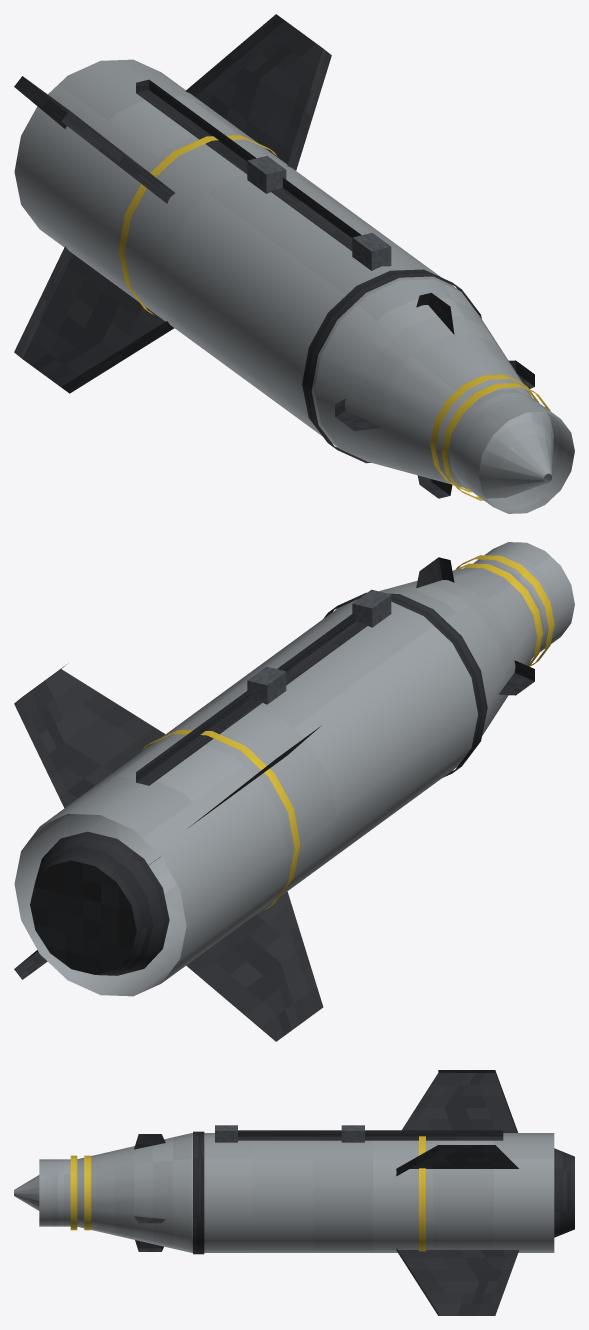
File: missile_tactical_mirv.glb
3 views of the same model, one above another, from view 1: azimuth 30°, elevation 25°; view 2: azimuth 150°, elevation 25°; view 3: azimuth 270°, elevation 25° (orthographic). The views are drawn at different scales.
Visible parts, largest first — view 1: body; view 2: body; view 3: body.
Part boxes in pixels (bbox=[...]): body: bbox=[14, 14, 574, 513]; body: bbox=[14, 542, 574, 1041]; body: bbox=[14, 1070, 574, 1315].
Bounding box in the file's own units: 0.8174 × 0.8174 × 2.43.
Materials: 1 (1 with a texture image).
